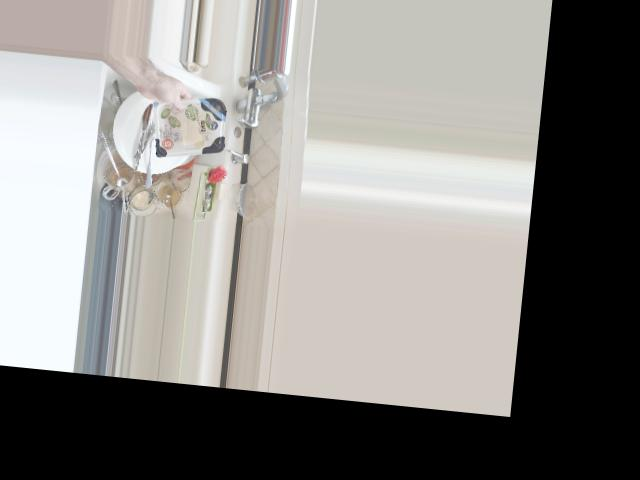cheese: (137, 72, 236, 161)
